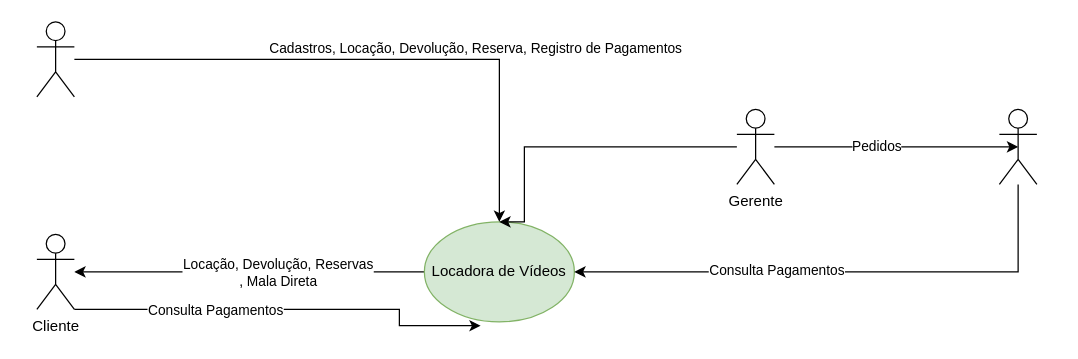
Some shapes in this 1078 by 359 pixel diagram are drawn without their labels. Here are the shapes that lost their labels. From the top down, the centre of each, then its label:
(55,59): Atendente
(1017,146): Distribuidor
